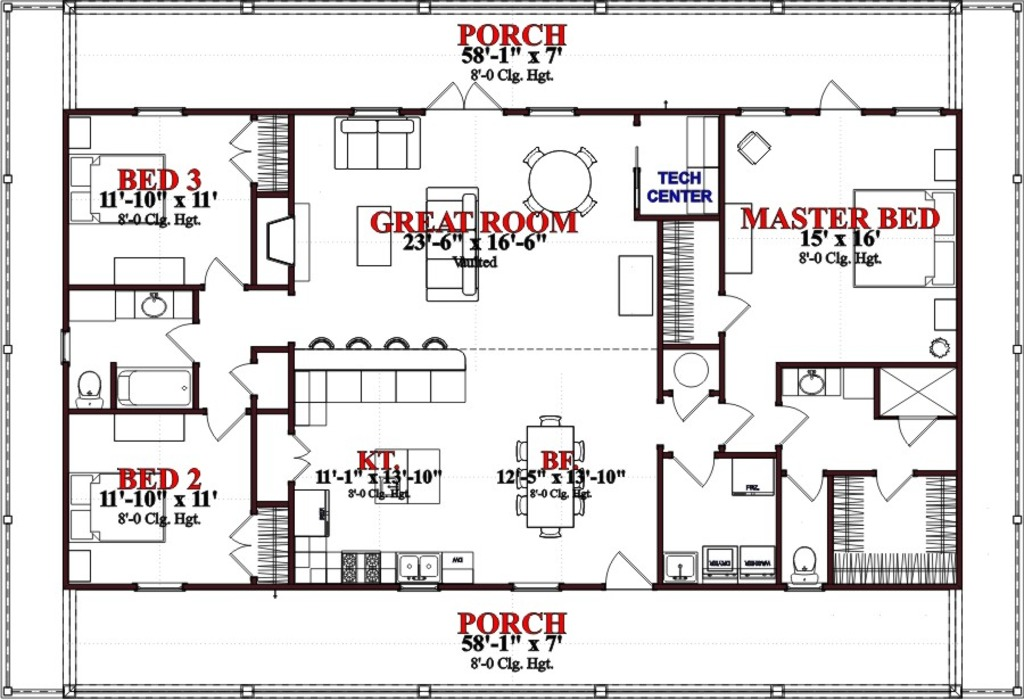dining_table: (514, 415, 587, 538)
door: (597, 548, 649, 590), (225, 514, 258, 575), (667, 451, 714, 491), (769, 402, 808, 449), (813, 81, 859, 120), (203, 402, 249, 440), (226, 119, 254, 181), (780, 466, 824, 505), (870, 468, 915, 505), (163, 314, 198, 361), (719, 289, 754, 335), (203, 254, 243, 292), (667, 388, 709, 422), (721, 399, 753, 440), (897, 415, 937, 446), (286, 432, 311, 481), (225, 357, 253, 394)
large_sink: (783, 543, 819, 589), (71, 368, 106, 409)
large_sofa: (329, 114, 430, 174)
round_table: (518, 145, 602, 215)
small_sink: (126, 290, 178, 319), (792, 365, 830, 396)
tub: (114, 365, 197, 408)
